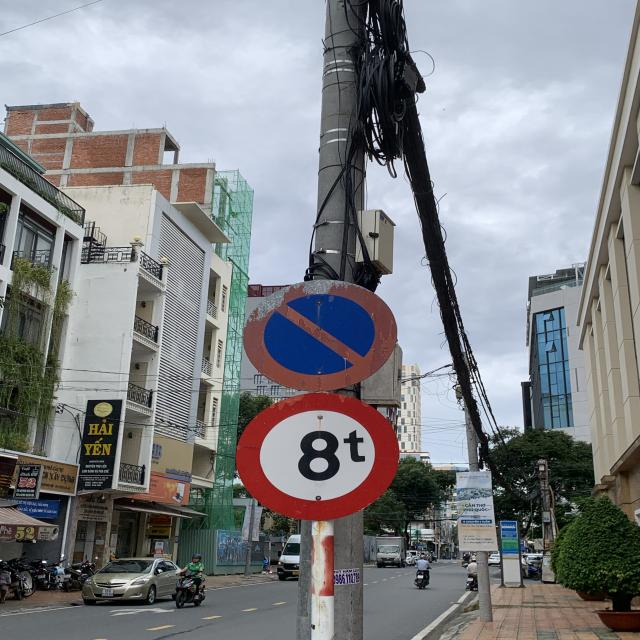Cam_Dau_Xe: (242, 283, 400, 387)
